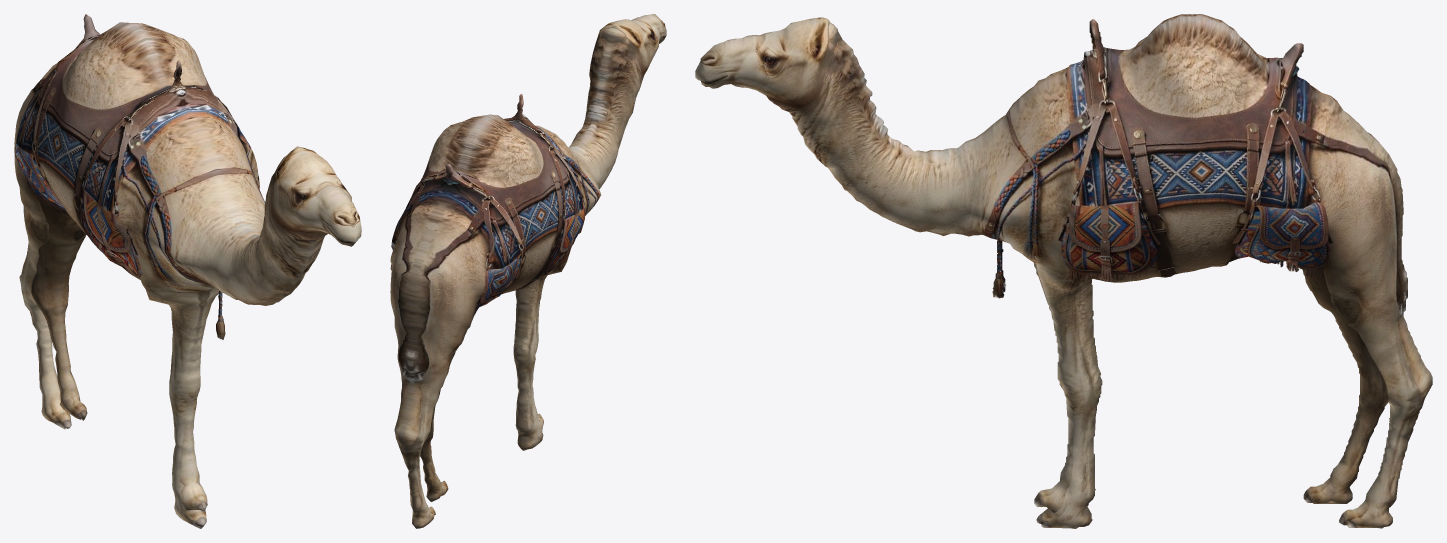
File: dromadaire-selle.glb
3 renders of one model, left to right at view 1: azimuth 30°, elevation 25°; view 2: azimuth 150°, elevation 25°; view 3: azimuth 270°, elevation 25°, orthographic. The views are drawn at different scales.
Visible parts, largest first — view 1: dromadaire-selle; view 2: dromadaire-selle; view 3: dromadaire-selle.
Boxes of the visible parts, <box> form: dromadaire-selle: <box>14,14,361,528</box>; dromadaire-selle: <box>390,14,666,528</box>; dromadaire-selle: <box>695,14,1432,528</box>.
Size of the model in its own units: 0.726 by 2.1 by 2.75.
1 material, 1 textured.
